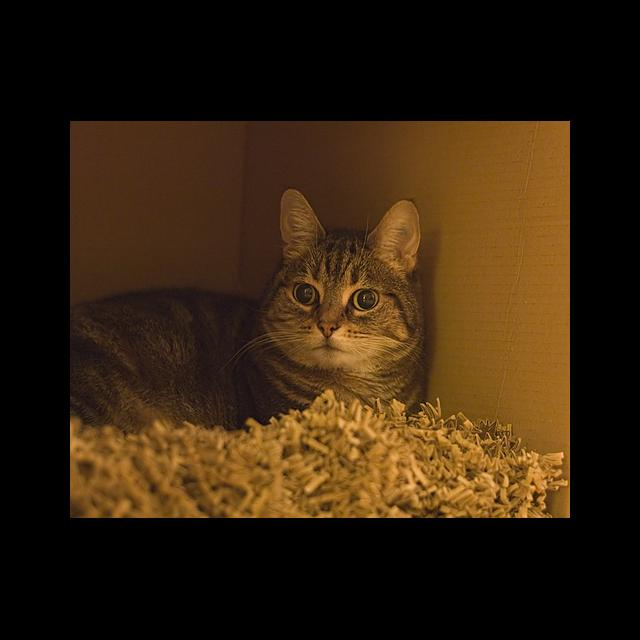animals: (282, 190, 408, 336)
